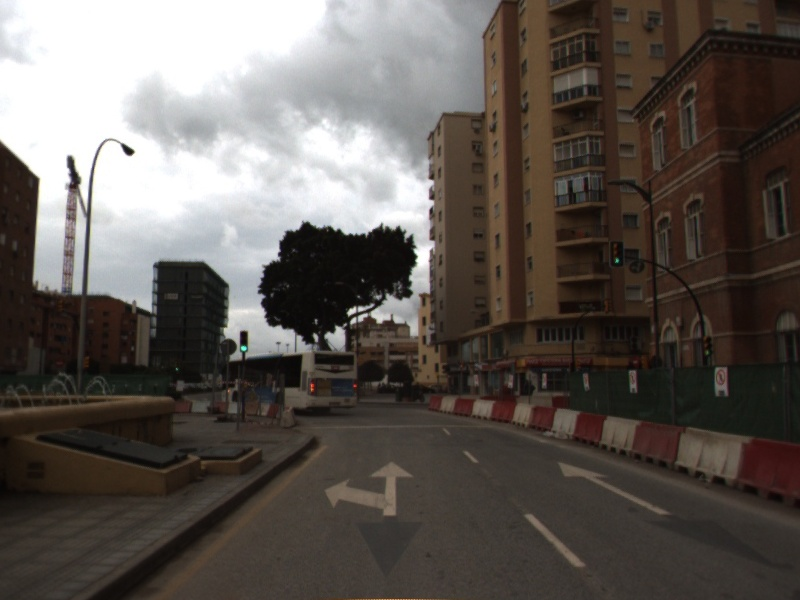STRAIGHT: (557, 460, 676, 517)
STRAIGHT_LEFT: (322, 459, 416, 517)
